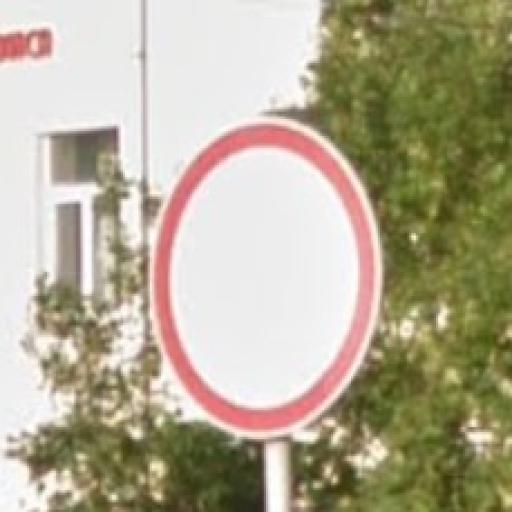traffic_sign: (149, 115, 386, 443)
